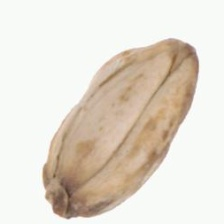L1: (41, 179, 89, 219), (162, 36, 199, 69)
L2: (42, 35, 199, 219)
